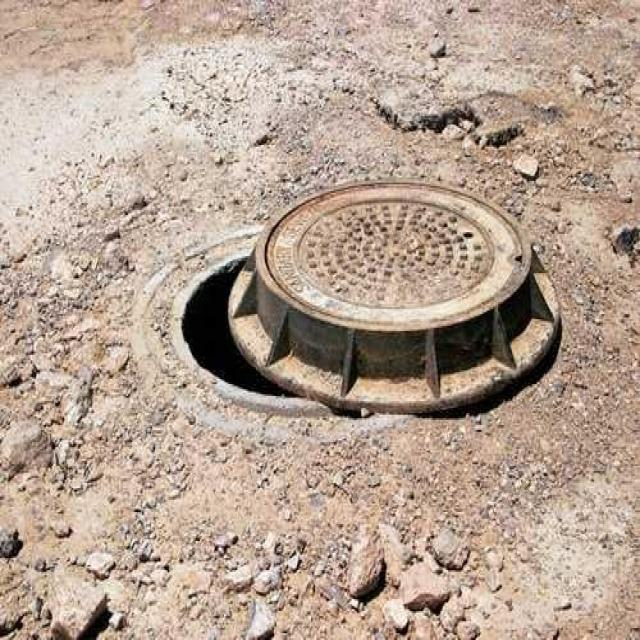manhole: (163, 181, 563, 422)
